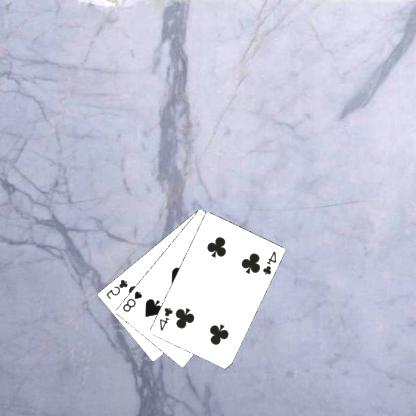4C: (158, 305, 176, 332), (262, 248, 279, 276)
5C: (105, 276, 130, 300)
8S: (121, 288, 144, 313)
